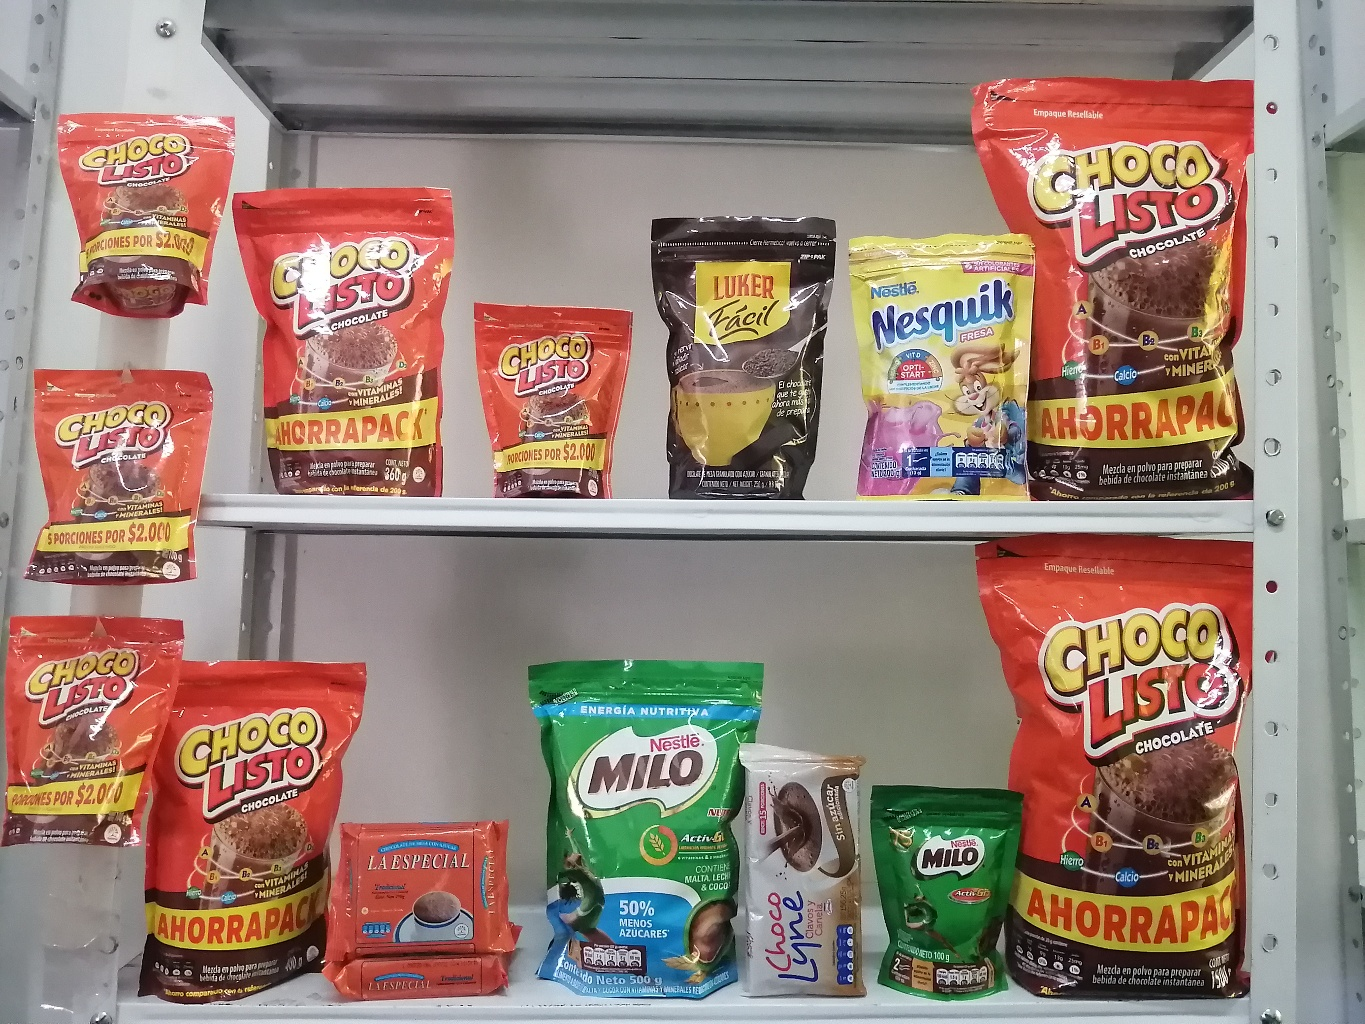COL0170103DYP1,500: (969, 56, 1261, 503)
COL0170103DYP10000: (463, 286, 646, 486)
COL0170103DYP36000: (227, 176, 459, 493)
COL0170103DYP40000: (150, 644, 362, 1004)
COL0170203DYP10000: (869, 773, 1020, 997)
COL0170205DYP50000: (522, 650, 765, 1004)
COL0170305DYP20000: (844, 222, 1033, 503)
